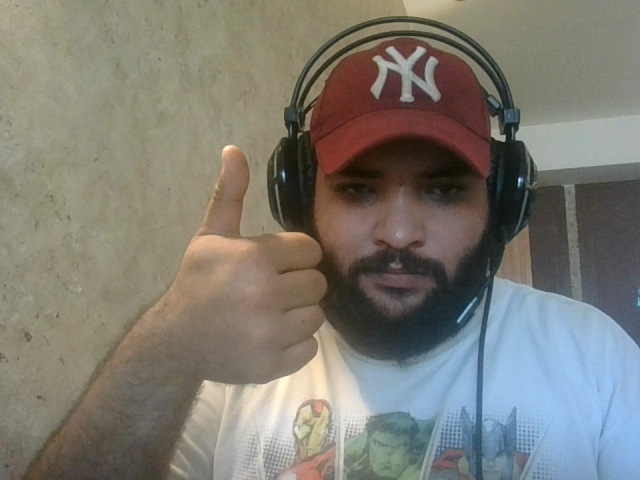yes: (156, 140, 330, 404)
